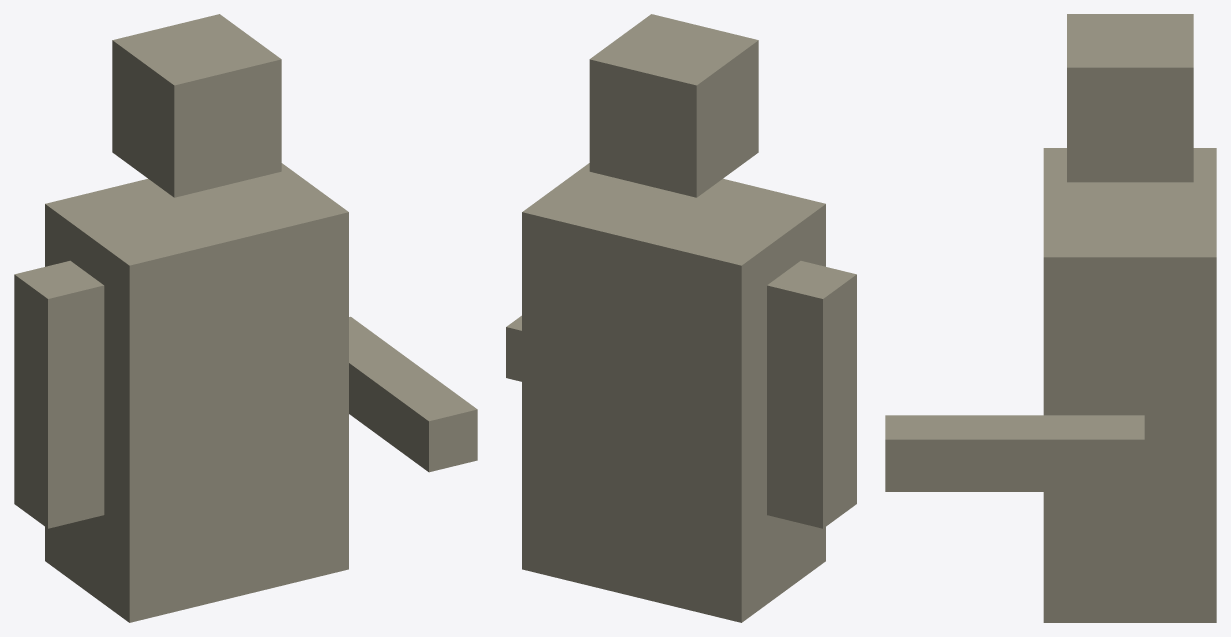
Rendered from igla.glb.
The picture shows the model from 3 angles, left to right: view 1: azimuth 30°, elevation 25°; view 2: azimuth 150°, elevation 25°; view 3: azimuth 270°, elevation 25°; orthographic projection. The views are drawn at different scales.
Visible parts, largest first — view 1: Body, Head, Arm_L, Arm_R; view 2: Body, Head, Arm_L, Arm_R; view 3: Body, Head, Arm_R.
Boxes of the visible parts, bbox=[...] form: Body: bbox=[45, 163, 348, 622]; Head: bbox=[112, 14, 281, 197]; Arm_L: bbox=[14, 260, 104, 528]; Arm_R: bbox=[349, 316, 477, 472]; Body: bbox=[522, 163, 825, 622]; Head: bbox=[589, 14, 758, 197]; Arm_L: bbox=[767, 261, 856, 528]; Arm_R: bbox=[506, 315, 521, 381]; Body: bbox=[1043, 148, 1216, 622]; Head: bbox=[1067, 14, 1193, 182]; Arm_R: bbox=[885, 415, 1144, 491].
Size of the model in its own units: 0.67 by 1.01 by 0.575.
